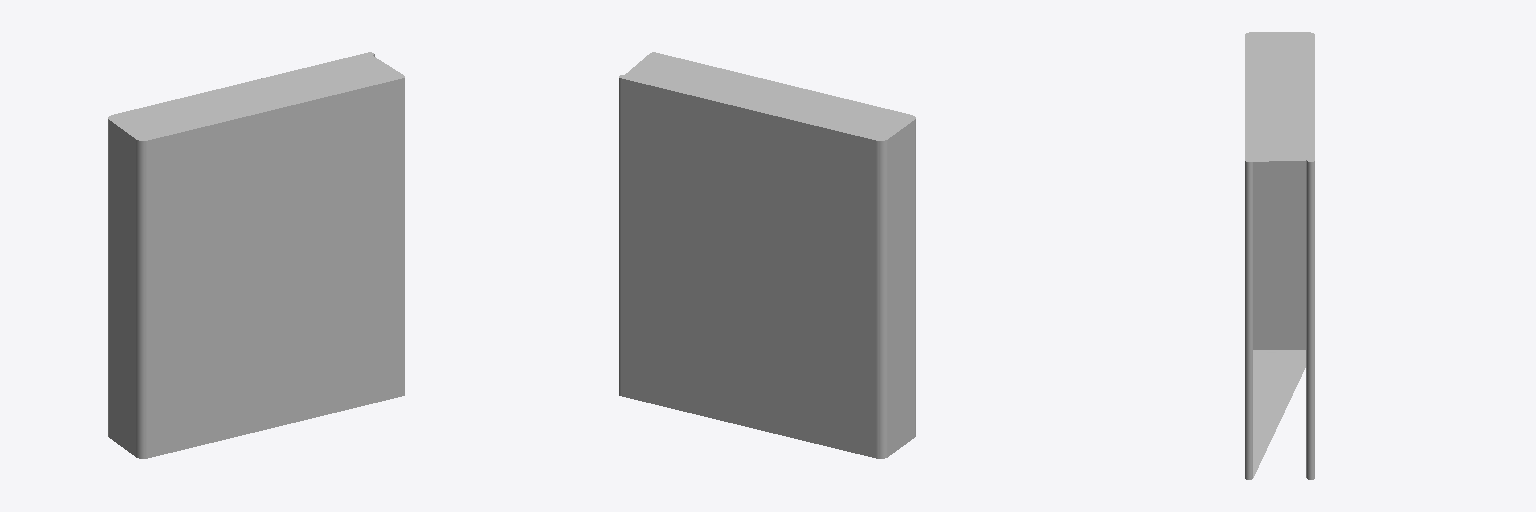
Rendered from books__31.obj.
The picture shows the model from 3 angles: view 1: azimuth 30°, elevation 25°; view 2: azimuth 150°, elevation 25°; view 3: azimuth 270°, elevation 25°; orthographic projection.
Parts seen in each view (by area): view 1: grp31; view 2: grp31; view 3: grp31.
Boxes of the visible parts, x1,y1,x2,y2 form: grp31: [108, 52, 404, 458]; grp31: [619, 52, 915, 458]; grp31: [1245, 32, 1314, 479].
Size of the model in its own units: 176 by 201 by 40.3.